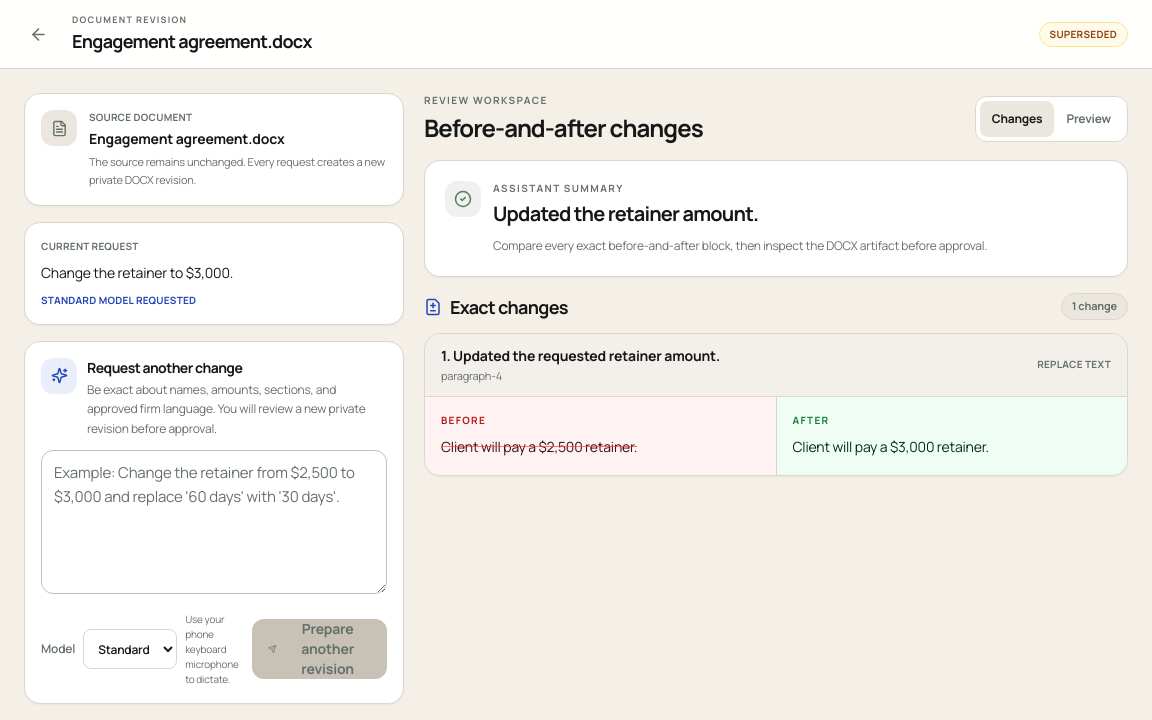
it: DocumentRevisionPage › shows a superseded revision as read-only
The image size is (1152, 720).
Expected: the heading "Updated the retainer amount." is shown, left=493, top=200, right=758, bottom=227
Click the button "Preview": (1089, 118) left=1054, top=100, right=1123, bottom=136
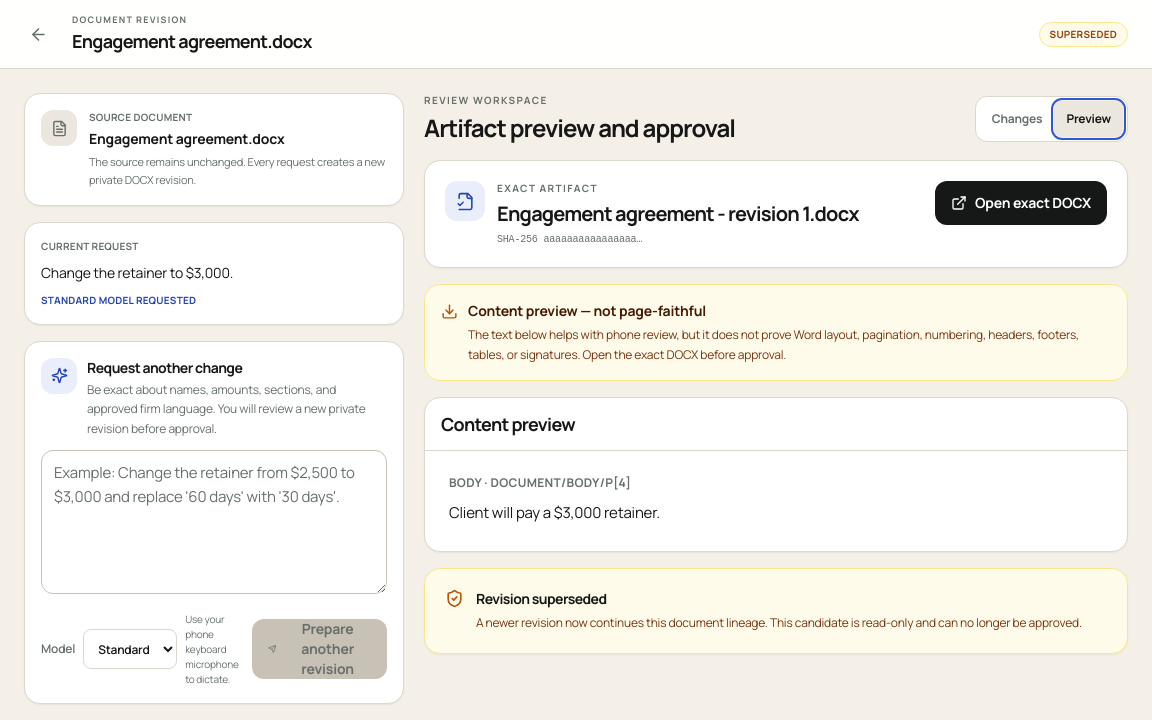
Expected: the heading "Revision superseded" is shown, left=476, top=589, right=606, bottom=608
Expected: the text "can no longer be approved" is shown, left=476, top=614, right=1082, bottom=631
